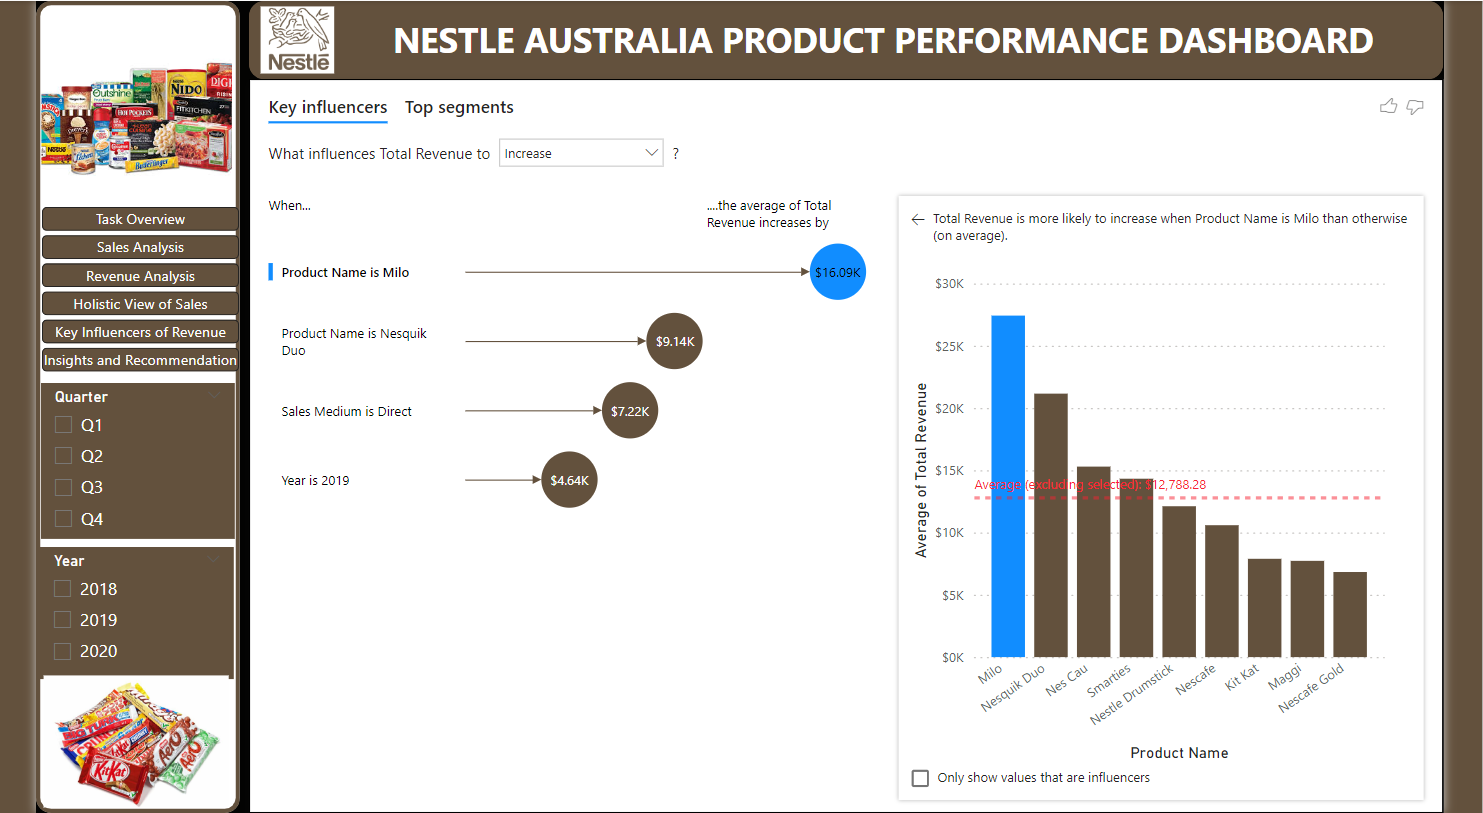

The dashboard page shown, as its layout file describes it:
{"tool":"powerbi","page":{"name":"Key Influencers of Revenue","canvas":[1300,750],"ordinal":4},"visuals":[{"type":"shape","box":[0,0,188.4,750],"z":0},{"type":"shape","box":[196.6,0,1103,72.3],"z":1000},{"type":"image","box":[188.4,0,105.2,72.3],"z":2000},{"type":"image","box":[0,45.7,185.7,130.8],"z":3000},{"type":"slicer","fields":{"Values":["Calendar Dim.Year"]},"box":[3.7,504,179.3,121.6],"z":4000},{"type":"slicer","fields":{"Values":["Calendar Dim.Quarter"]},"box":[4.6,353,179.3,143.6],"z":5000},{"type":"image","box":[0,618.3,185.7,131.7],"z":6000},{"type":"pageNavigator","box":[5.5,190.2,182.9,157.3],"z":7000},{"type":"textbox","box":[280.8,8.2,1003.4,64],"z":8000},{"type":"keyDriversVisual","fields":{"ExplainBy":["Nestle sales.Sales Medium","Nestle sales.Product Name","Nestle sales.Sales Location","Calendar Dim.Month Name","Calendar Dim.Year"],"Target":["Calculations.Total Revenue"]},"box":[196.7,72,1102.8,678],"z":10000}]}

Visuals, with their boxes on the page's 1300x750 design canvas (x1, y1, x2, y2). These are canvas units, not pixel positions in the 1483x813 screenshot, which may show the page scaled, cropped or inside an application window:
shape: (0, 0, 188, 750)
shape: (197, 0, 1300, 72)
image: (188, 0, 294, 72)
image: (0, 46, 186, 176)
slicer - Calendar Dim.Year: (4, 504, 183, 626)
slicer - Calendar Dim.Quarter: (5, 353, 184, 497)
image: (0, 618, 186, 750)
pageNavigator: (6, 190, 188, 348)
textbox: (281, 8, 1284, 72)
keyDriversVisual - Nestle sales.Sales Medium x Nestle sales.Product Name: (197, 72, 1300, 750)
